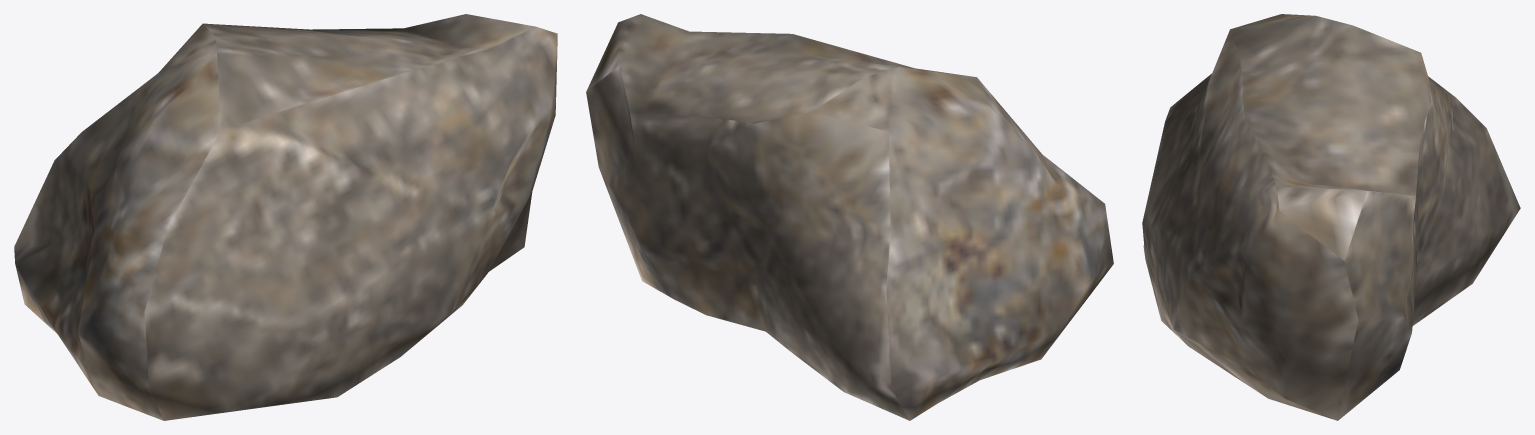
File: Rock.fbx
3 views of the same model, side by side, from view 1: azimuth 30°, elevation 25°; view 2: azimuth 150°, elevation 25°; view 3: azimuth 270°, elevation 25° (orthographic). The views are drawn at different scales.
Parts seen in each view (by area): view 1: rock; view 2: rock; view 3: rock.
Boxes of the visible parts, <box> form: rock: <box>14,14,557,420</box>; rock: <box>586,14,1113,420</box>; rock: <box>1142,14,1520,420</box>.
Size of the model in its own units: 94.03 by 54.16 by 64.07.
1 material, 1 textured.
